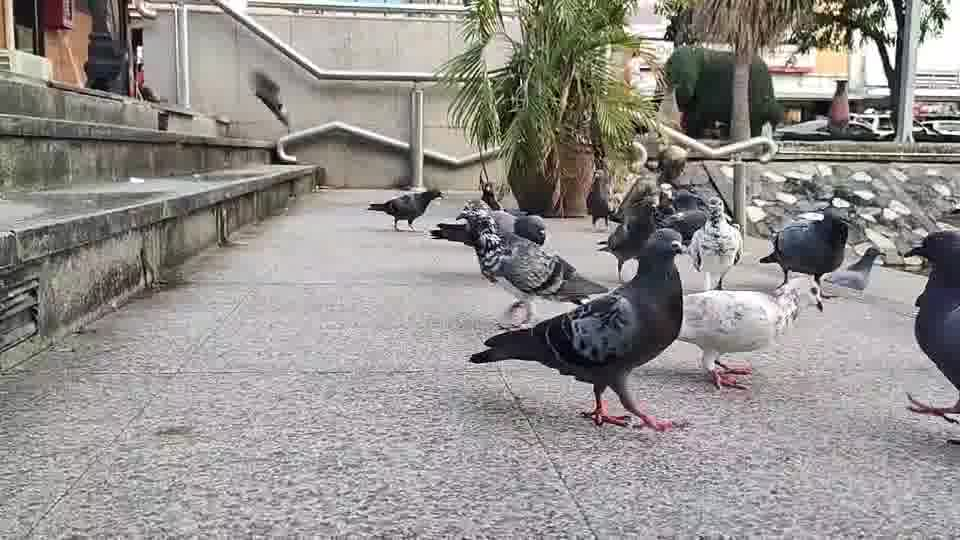Pigeon: (468, 226, 686, 431), (459, 210, 609, 317), (676, 279, 801, 391), (902, 227, 959, 442), (758, 206, 849, 311), (686, 195, 743, 290), (820, 245, 887, 299), (366, 187, 446, 232), (249, 70, 291, 133), (585, 168, 612, 230)
